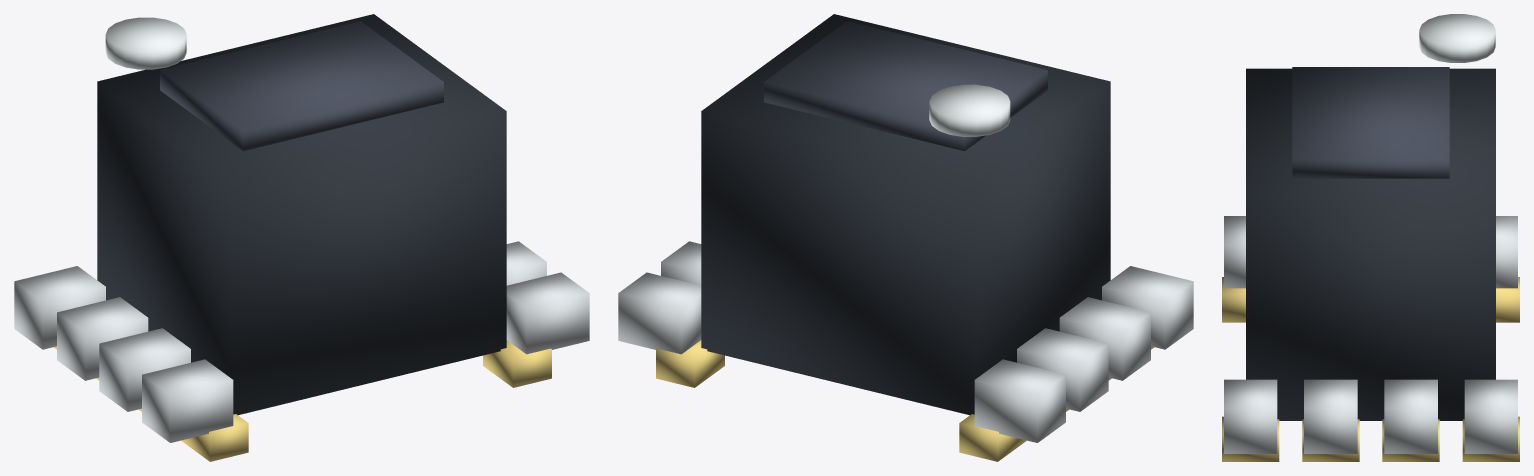
File: 21_L95_U4_LM393_PWMComparator_SOIC8.fbx
3 renders of one model, left to right at view 1: azimuth 30°, elevation 25°; view 2: azimuth 150°, elevation 25°; view 3: azimuth 270°, elevation 25°, orthographic. The views are drawn at different scales.
Visible parts, largest first — view 1: L95_LM393_PWMComparator_SOIC8_Part_0000, L95_LM393_PWMComparator_SOIC8_Part_0002, L95_LM393_PWMComparator_SOIC8_Part_0001, L95_LM393_PWMComparator_SOIC8_Part_0003, L95_LM393_PWMComparator_SOIC8_Part_0004; view 2: L95_LM393_PWMComparator_SOIC8_Part_0000, L95_LM393_PWMComparator_SOIC8_Part_0002, L95_LM393_PWMComparator_SOIC8_Part_0001, L95_LM393_PWMComparator_SOIC8_Part_0003, L95_LM393_PWMComparator_SOIC8_Part_0004; view 3: L95_LM393_PWMComparator_SOIC8_Part_0000, L95_LM393_PWMComparator_SOIC8_Part_0002, L95_LM393_PWMComparator_SOIC8_Part_0001, L95_LM393_PWMComparator_SOIC8_Part_0003, L95_LM393_PWMComparator_SOIC8_Part_0004.
Boxes of the visible parts, x1,y1,x2,y2 form: L95_LM393_PWMComparator_SOIC8_Part_0000: [97, 14, 506, 415]; L95_LM393_PWMComparator_SOIC8_Part_0002: [14, 241, 589, 442]; L95_LM393_PWMComparator_SOIC8_Part_0001: [160, 21, 443, 151]; L95_LM393_PWMComparator_SOIC8_Part_0003: [53, 340, 551, 461]; L95_LM393_PWMComparator_SOIC8_Part_0004: [105, 17, 186, 69]; L95_LM393_PWMComparator_SOIC8_Part_0000: [701, 14, 1110, 415]; L95_LM393_PWMComparator_SOIC8_Part_0002: [618, 241, 1193, 442]; L95_LM393_PWMComparator_SOIC8_Part_0001: [764, 21, 1047, 151]; L95_LM393_PWMComparator_SOIC8_Part_0003: [656, 340, 1154, 461]; L95_LM393_PWMComparator_SOIC8_Part_0004: [929, 84, 1010, 136]; L95_LM393_PWMComparator_SOIC8_Part_0000: [1246, 68, 1495, 420]; L95_LM393_PWMComparator_SOIC8_Part_0002: [1224, 216, 1517, 453]; L95_LM393_PWMComparator_SOIC8_Part_0001: [1292, 67, 1449, 178]; L95_LM393_PWMComparator_SOIC8_Part_0003: [1222, 277, 1519, 461]; L95_LM393_PWMComparator_SOIC8_Part_0004: [1419, 14, 1495, 62].
Size of the model in its own units: 0.1195 by 0.0875 by 0.078.
